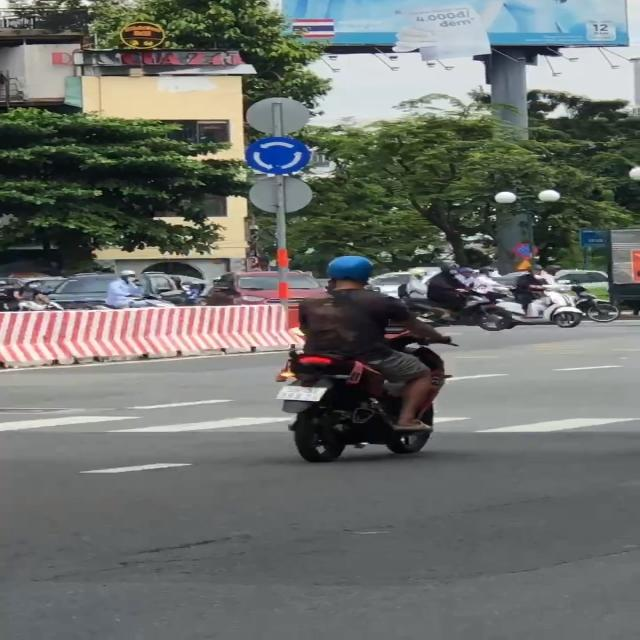Bien bao noi giao nhau chay theo vong xuyen: (243, 136, 316, 174)
